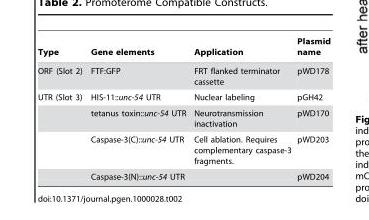table: (37, 36, 329, 180)
table column: (85, 36, 189, 180), (189, 36, 293, 180), (37, 36, 85, 180), (293, 36, 329, 180)
table column header: (37, 36, 329, 61)
table row: (37, 131, 329, 168), (37, 61, 329, 89), (37, 104, 329, 131), (37, 36, 329, 61), (37, 89, 329, 104), (37, 168, 329, 180)
table spanning cell: (37, 89, 85, 180)
